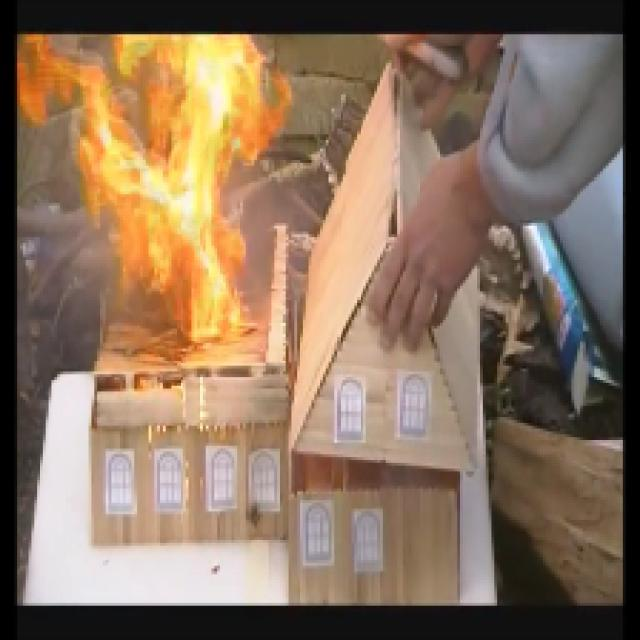Fire: (69, 30, 268, 348)
